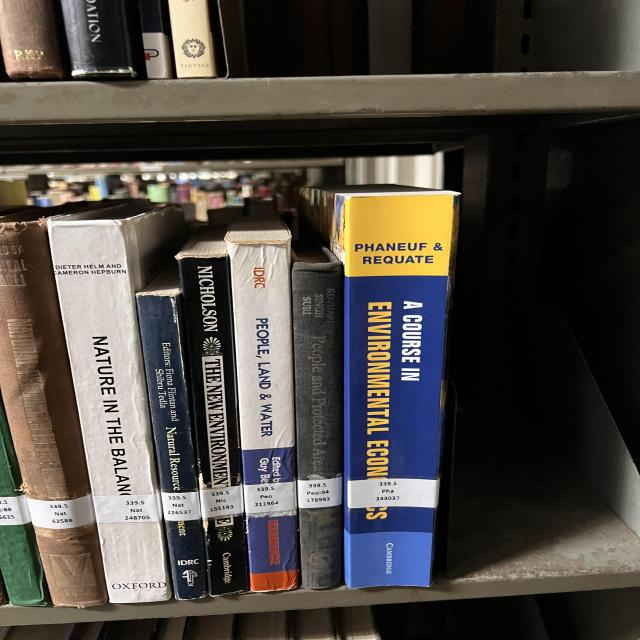Book: (300, 185, 458, 589), (48, 205, 183, 604), (0, 202, 107, 608), (225, 221, 298, 591), (177, 226, 250, 595), (137, 266, 207, 599), (292, 240, 343, 589)
Label: (347, 479, 440, 509), (27, 494, 95, 529), (93, 494, 162, 524), (243, 481, 297, 514), (200, 485, 243, 519), (297, 478, 342, 509), (162, 491, 200, 521)
